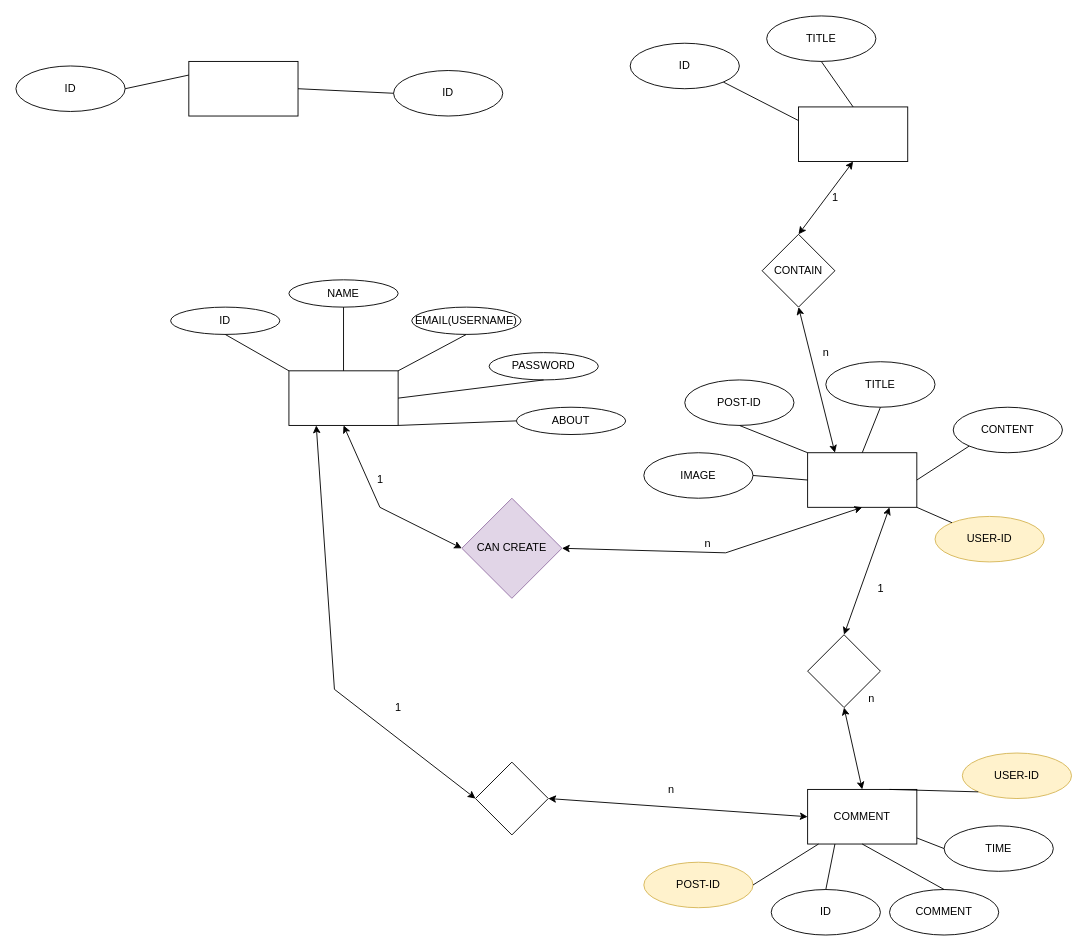
The diagram is 1087 pixels wide and 951 high, and some of its shapes have lost their labels. The box of each missing label's shape, as (x1, y1, x2, y2) in pixels:
CATEGORY: (798, 106, 908, 162)
DO: (475, 761, 548, 835)
HAVE: (807, 634, 880, 708)
POST: (807, 452, 917, 507)
ROLE: (188, 61, 298, 116)
USER: (288, 370, 398, 425)
